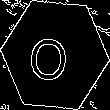O_N: (34, 27, 76, 83)
